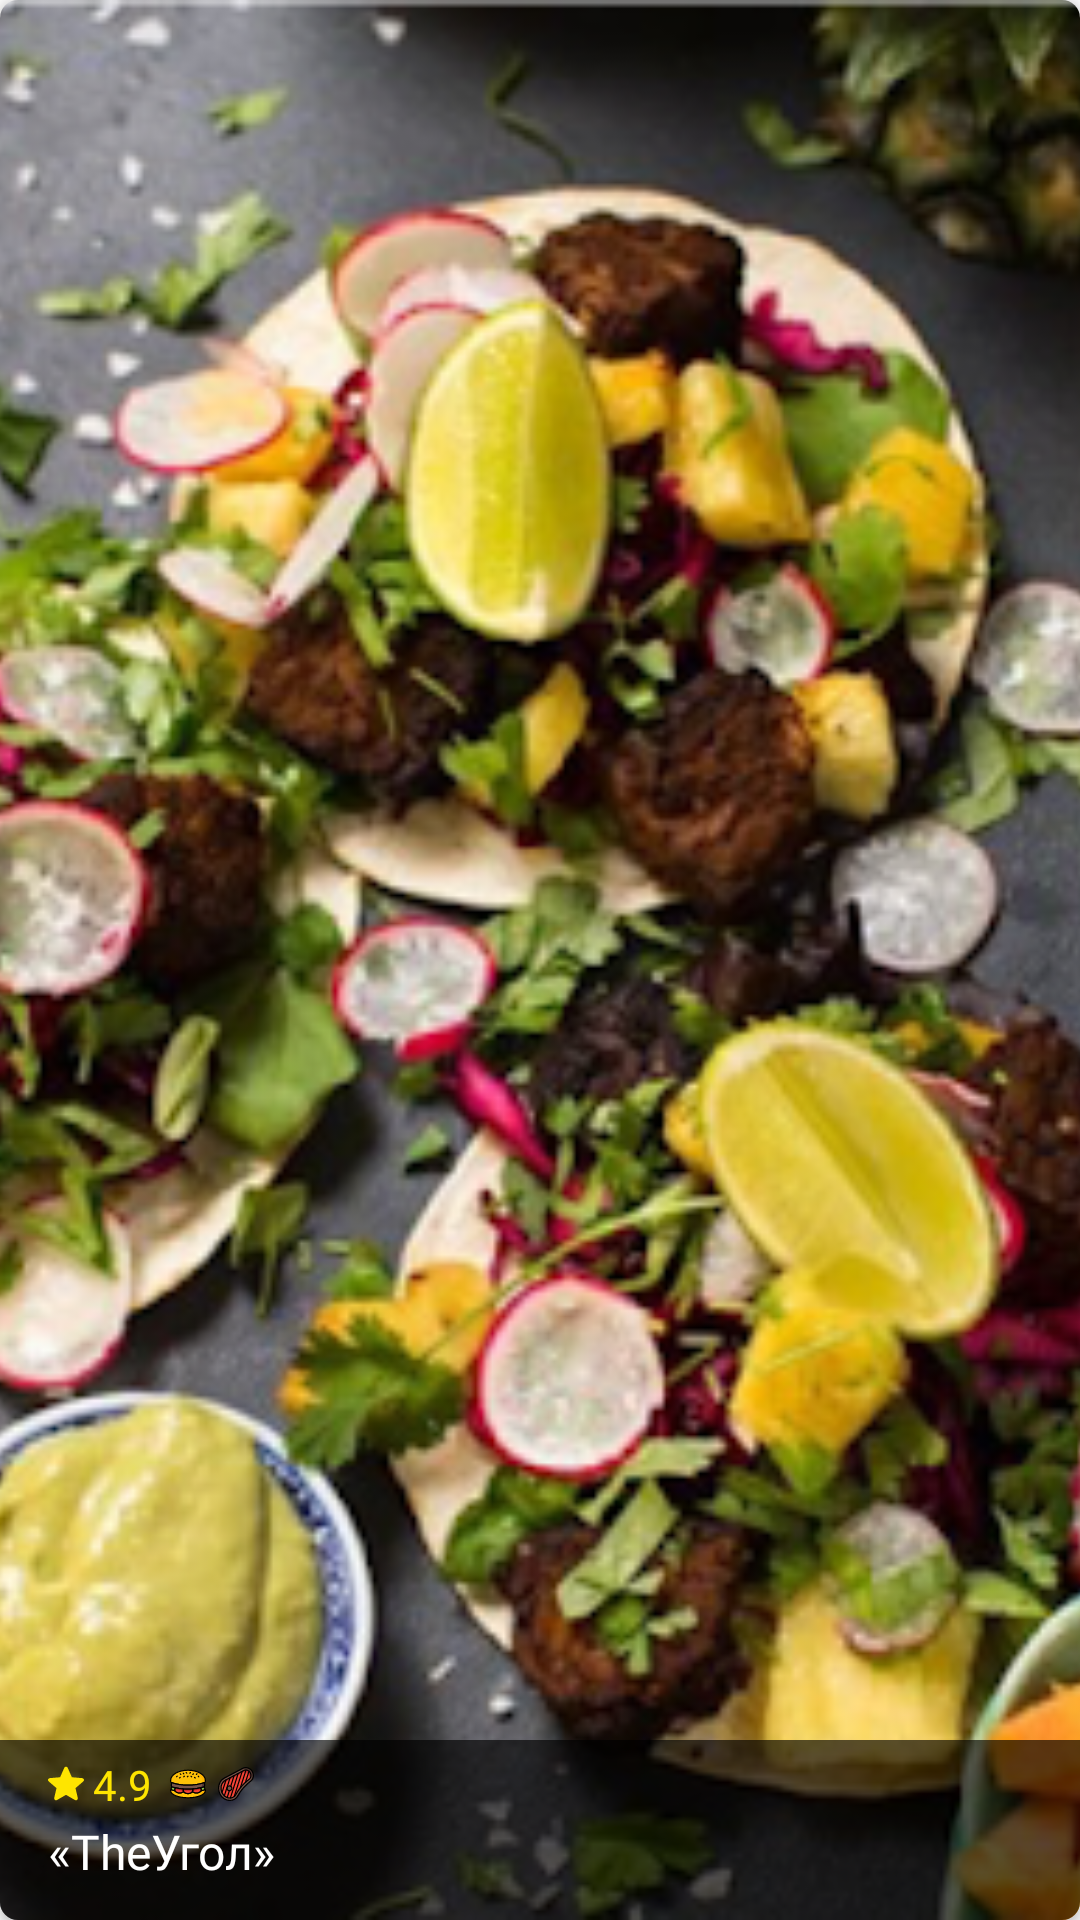

Icon click points for this 1080 x 1920 phone screenshot, format (x,y):
burger: (188,1785)
star: (66,1783)
steak: (236,1784)
